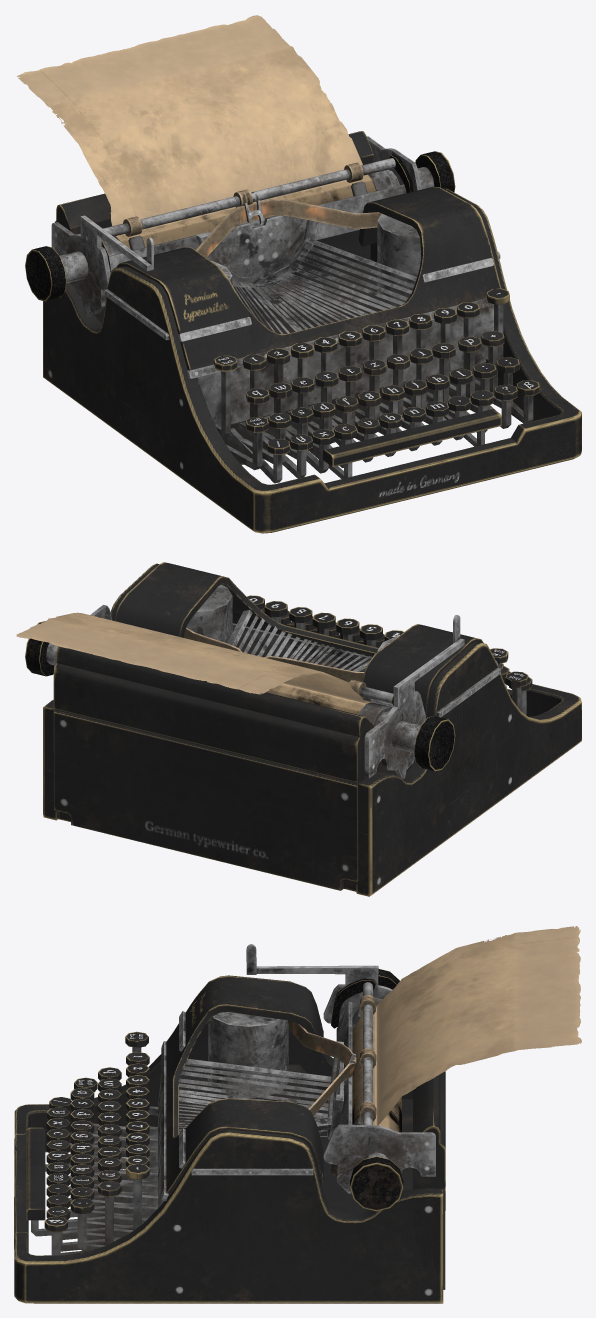
File: typewriter.fbx
3 renders of one model, top to bottom at view 1: azimuth 30°, elevation 25°; view 2: azimuth 150°, elevation 25°; view 3: azimuth 270°, elevation 25°, orthographic.
Visible parts, largest first — view 1: typewriter, paper; view 2: typewriter, paper; view 3: typewriter, paper.
Part boxes in pixels (left/top/right/bottom): typewriter: left=25, top=131, right=581, bottom=533; paper: left=17, top=15, right=376, bottom=248; typewriter: left=25, top=562, right=581, bottom=896; paper: left=16, top=612, right=372, bottom=714; typewriter: left=14, top=944, right=445, bottom=1303; paper: left=352, top=926, right=581, bottom=1132.
Size of the model in its own units: 482 by 277 by 594.
